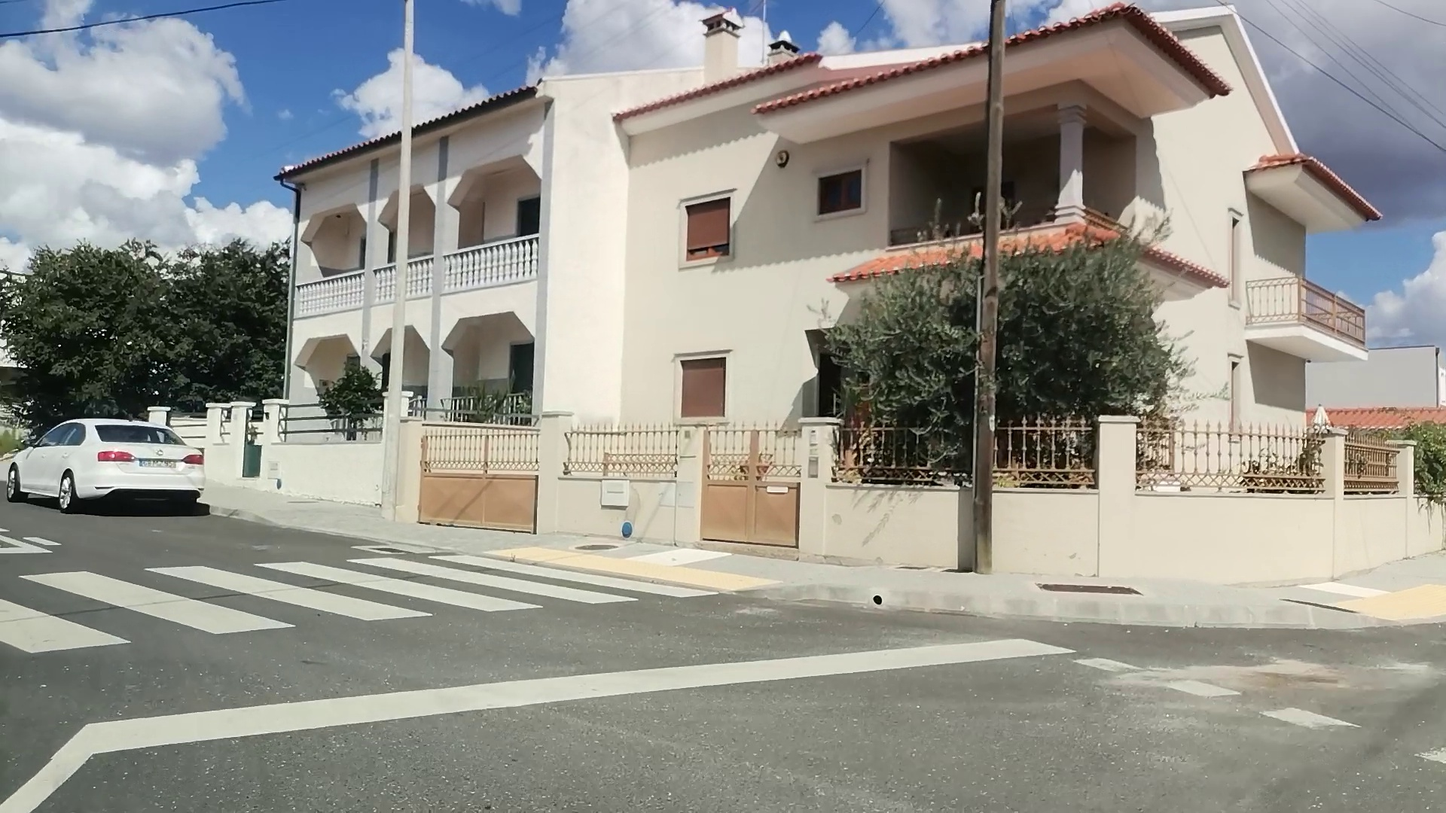Stairs: (0, 562, 715, 656)
